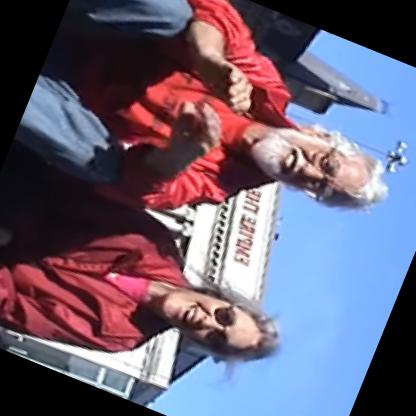Human Body: (7, 0, 415, 292), (0, 156, 306, 415)
